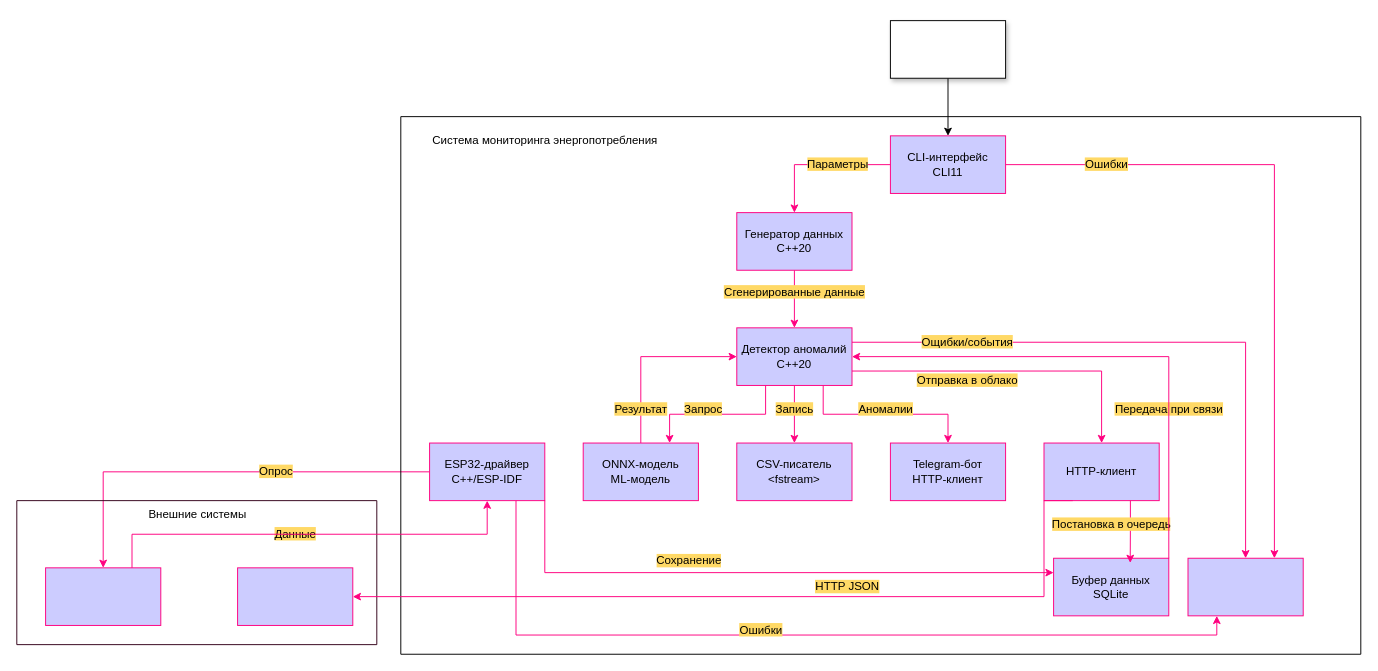
Image size: 1378x671. Some labels were removed from this diagram. The centre of each missing label's shape, as x and y in pixels:
"EPS32 Датчики реальные" goes at (x=103, y=596).
"InfluxDB Cloud" goes at (x=295, y=596).
"Логгер <fstream>" goes at (x=1245, y=586).
"Пользователь" goes at (x=948, y=50).
